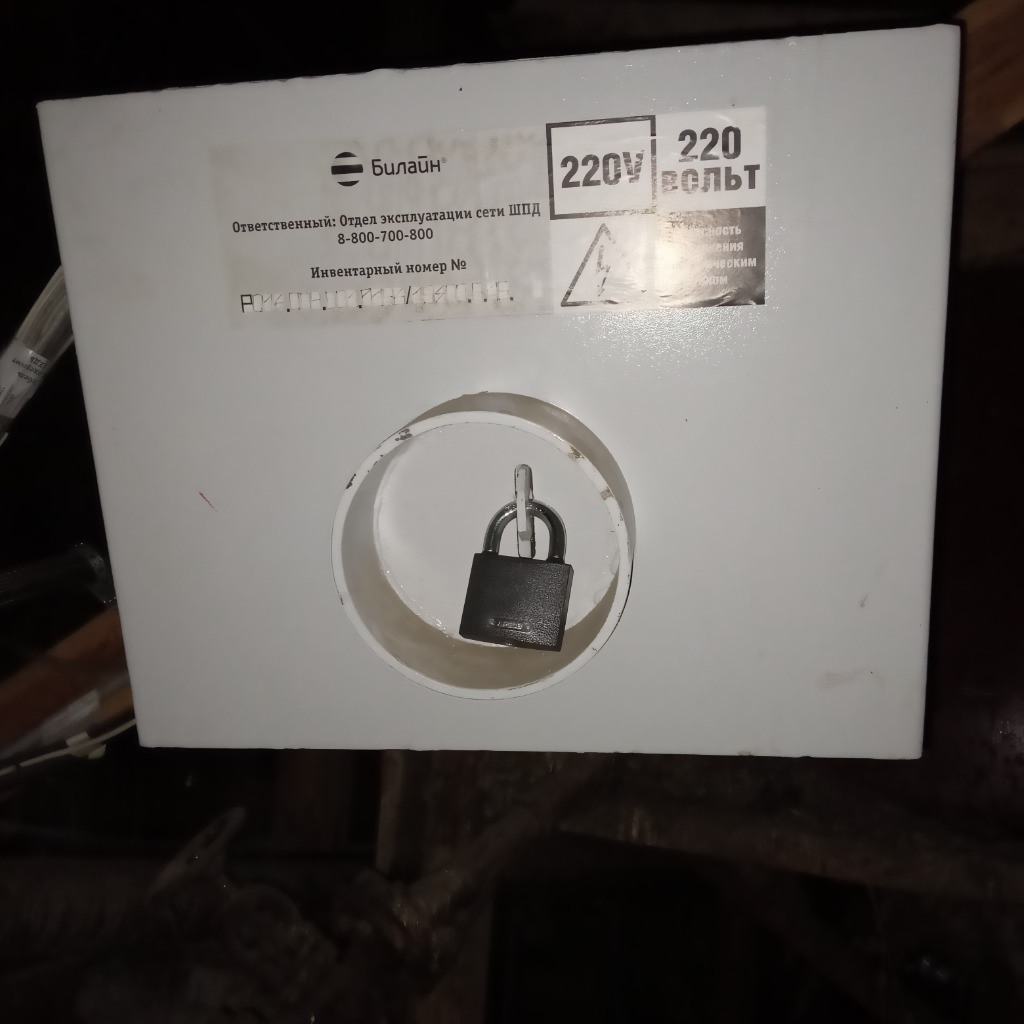shta-3: (32, 22, 970, 765)
